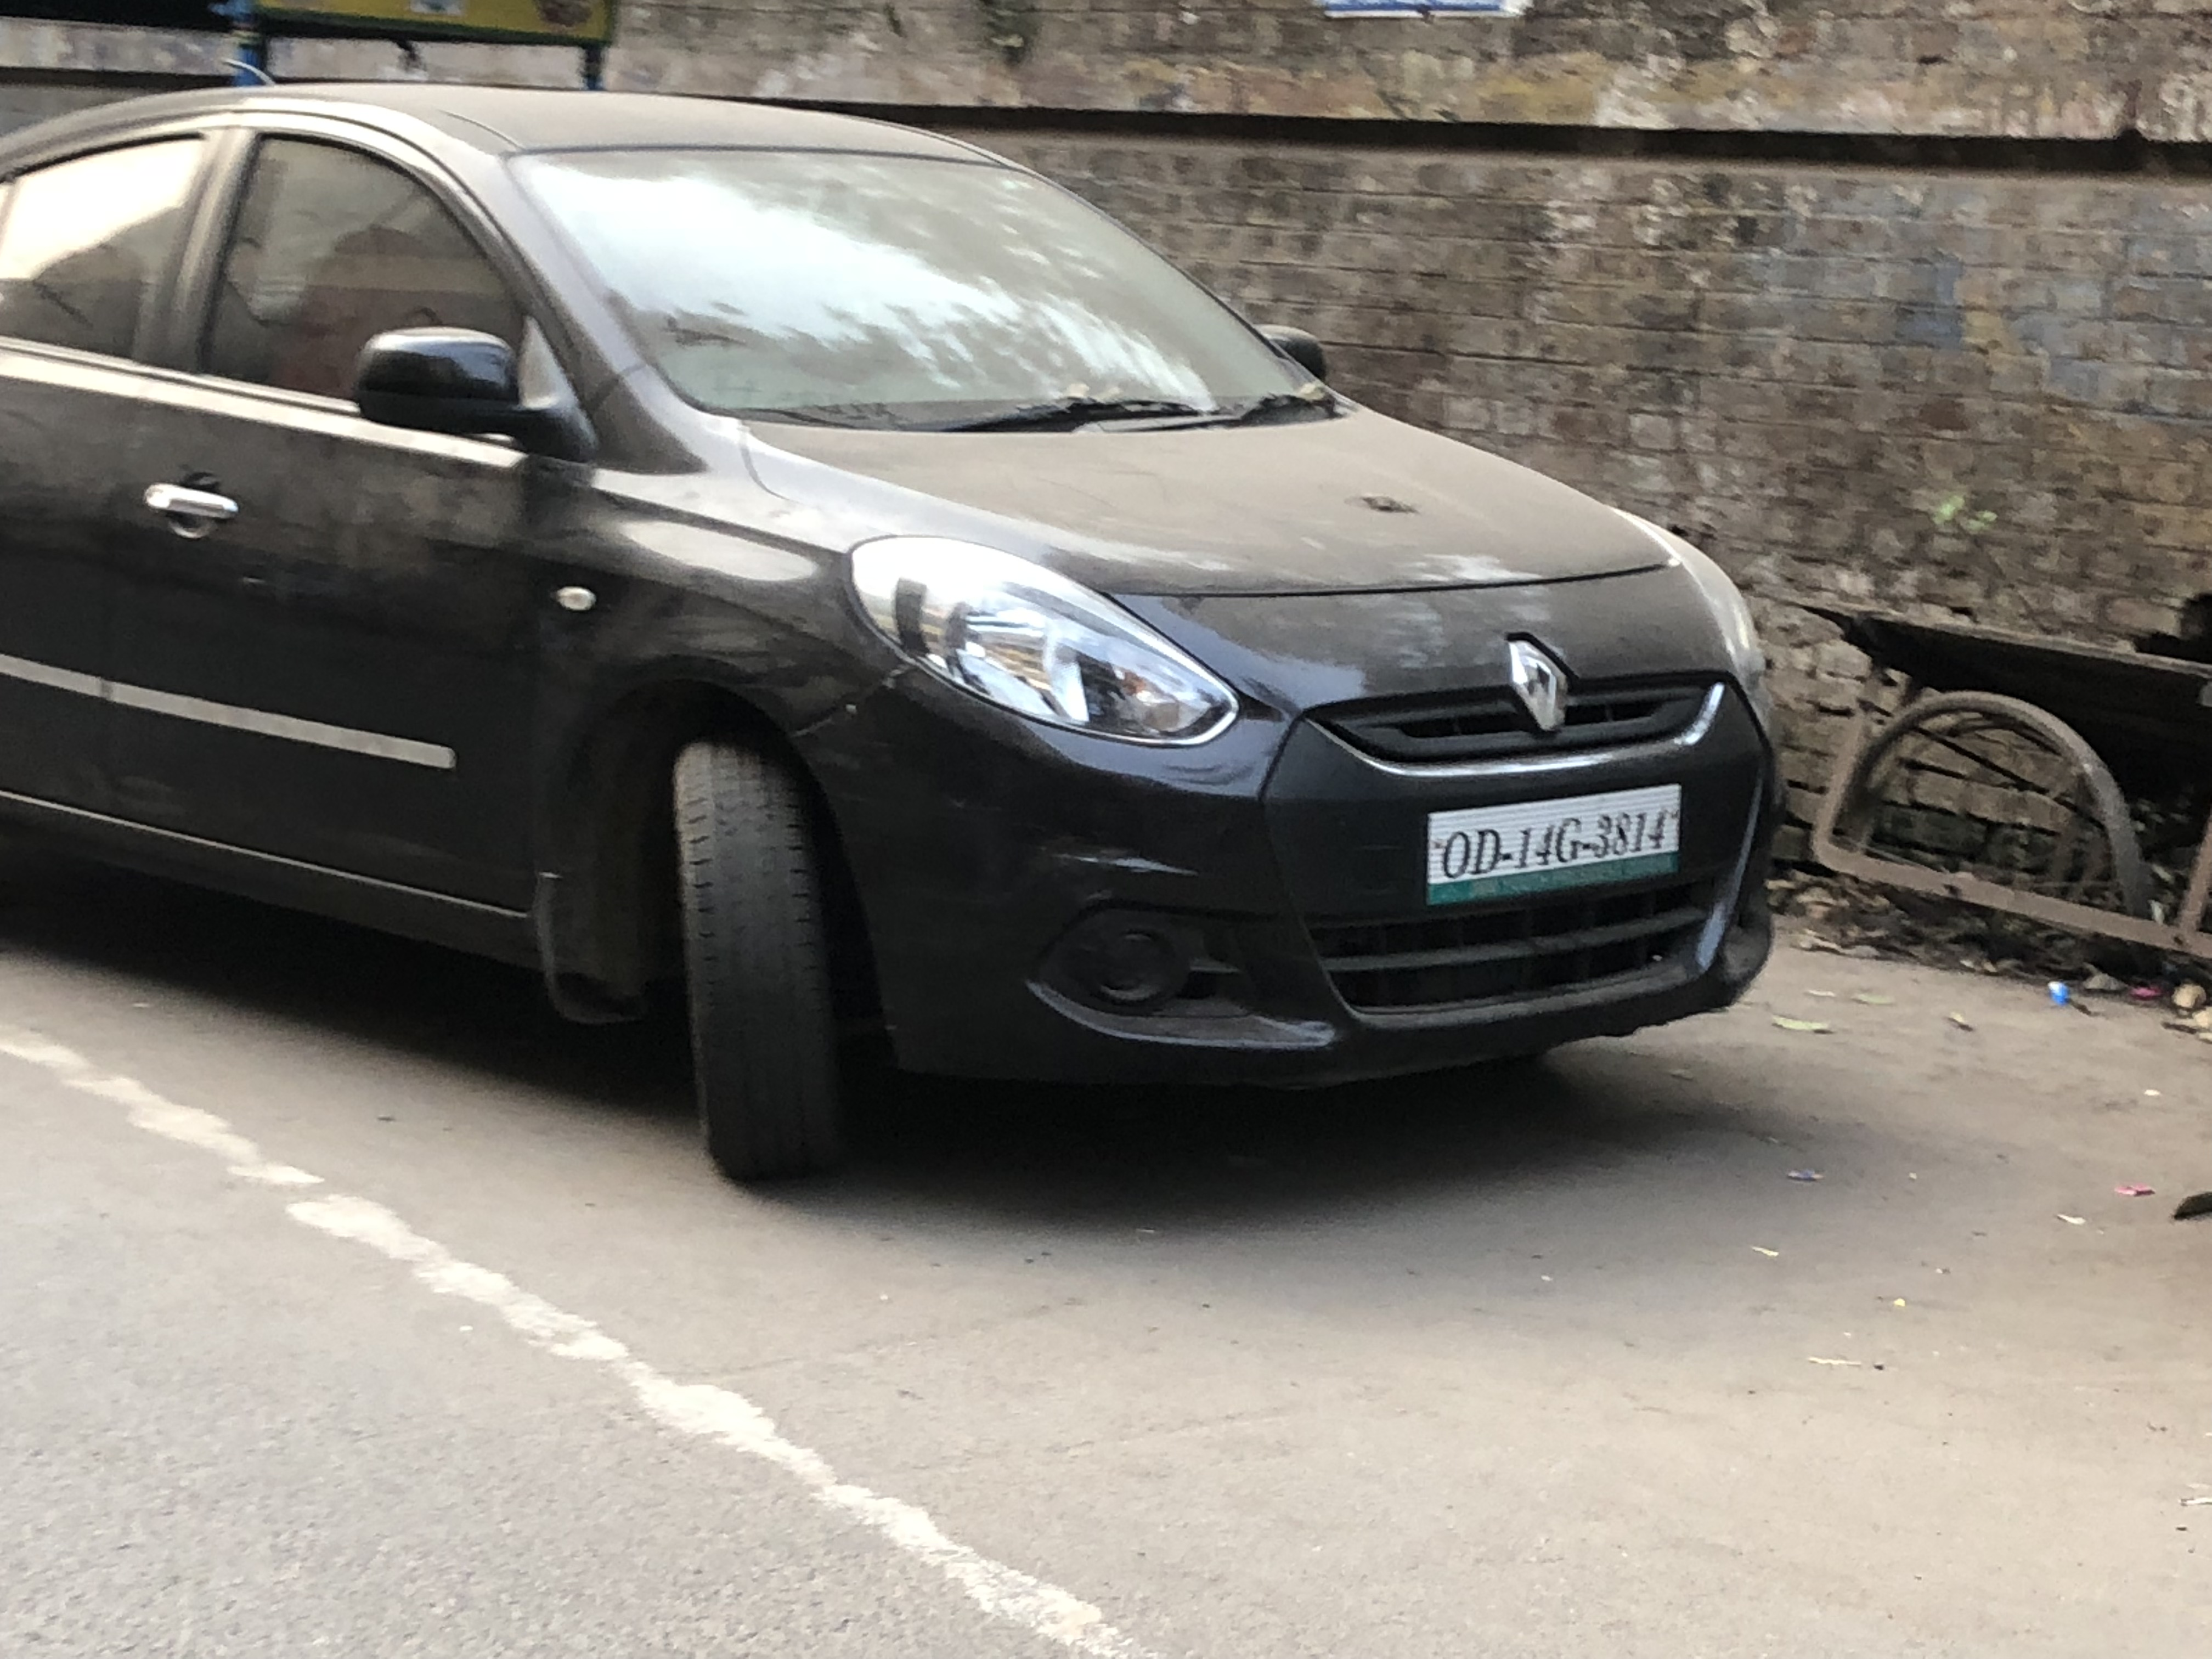licenseplate: (1413, 787, 1694, 901)
